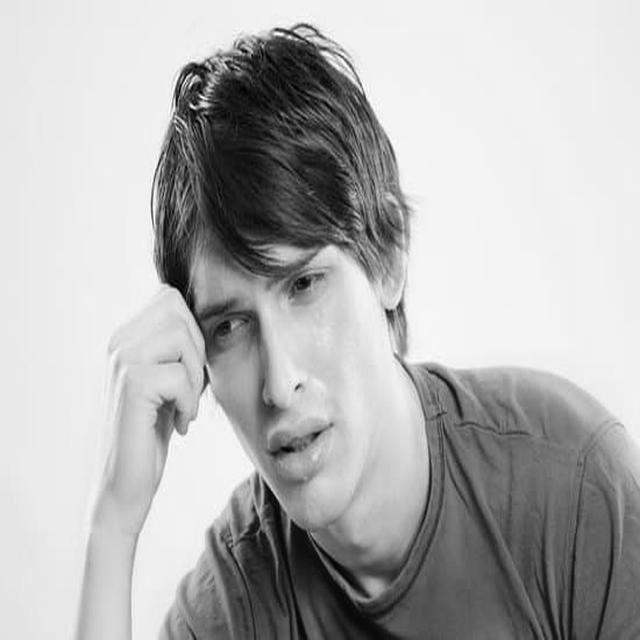Sadness: (197, 245, 365, 528)
